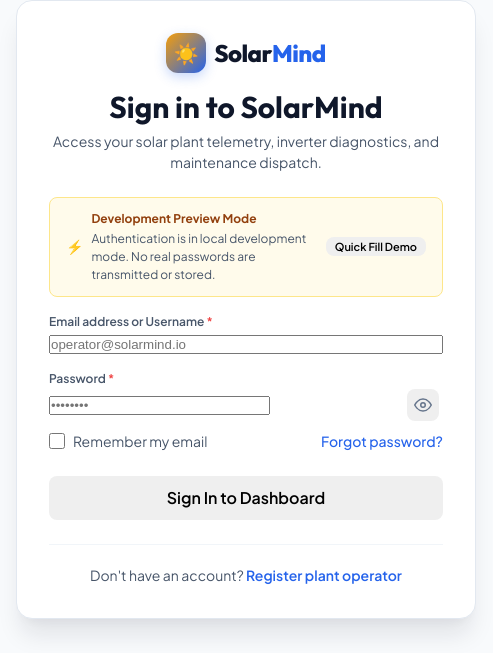
Test: SolarMind Authentication System Suite › LoginPage Component › toggles password visibility when clicking eye button
The width and height of the screenshot is (493, 653).
Click the button named "Show password": click(423, 405) [407,389,439,421]
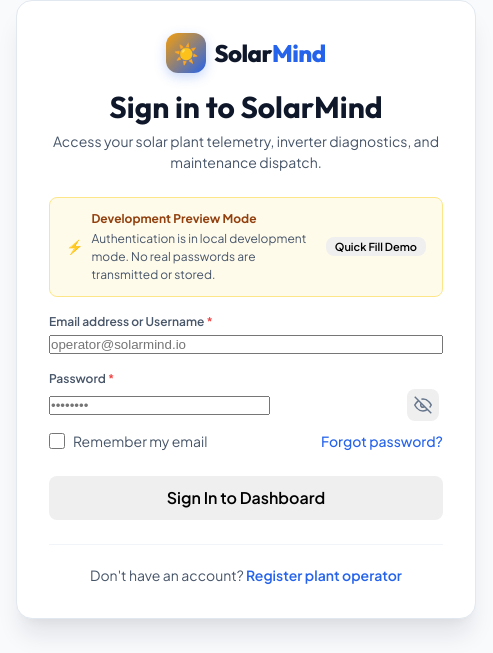
expect the button named "Hide password" is shown: met, box [407,389,439,421]
